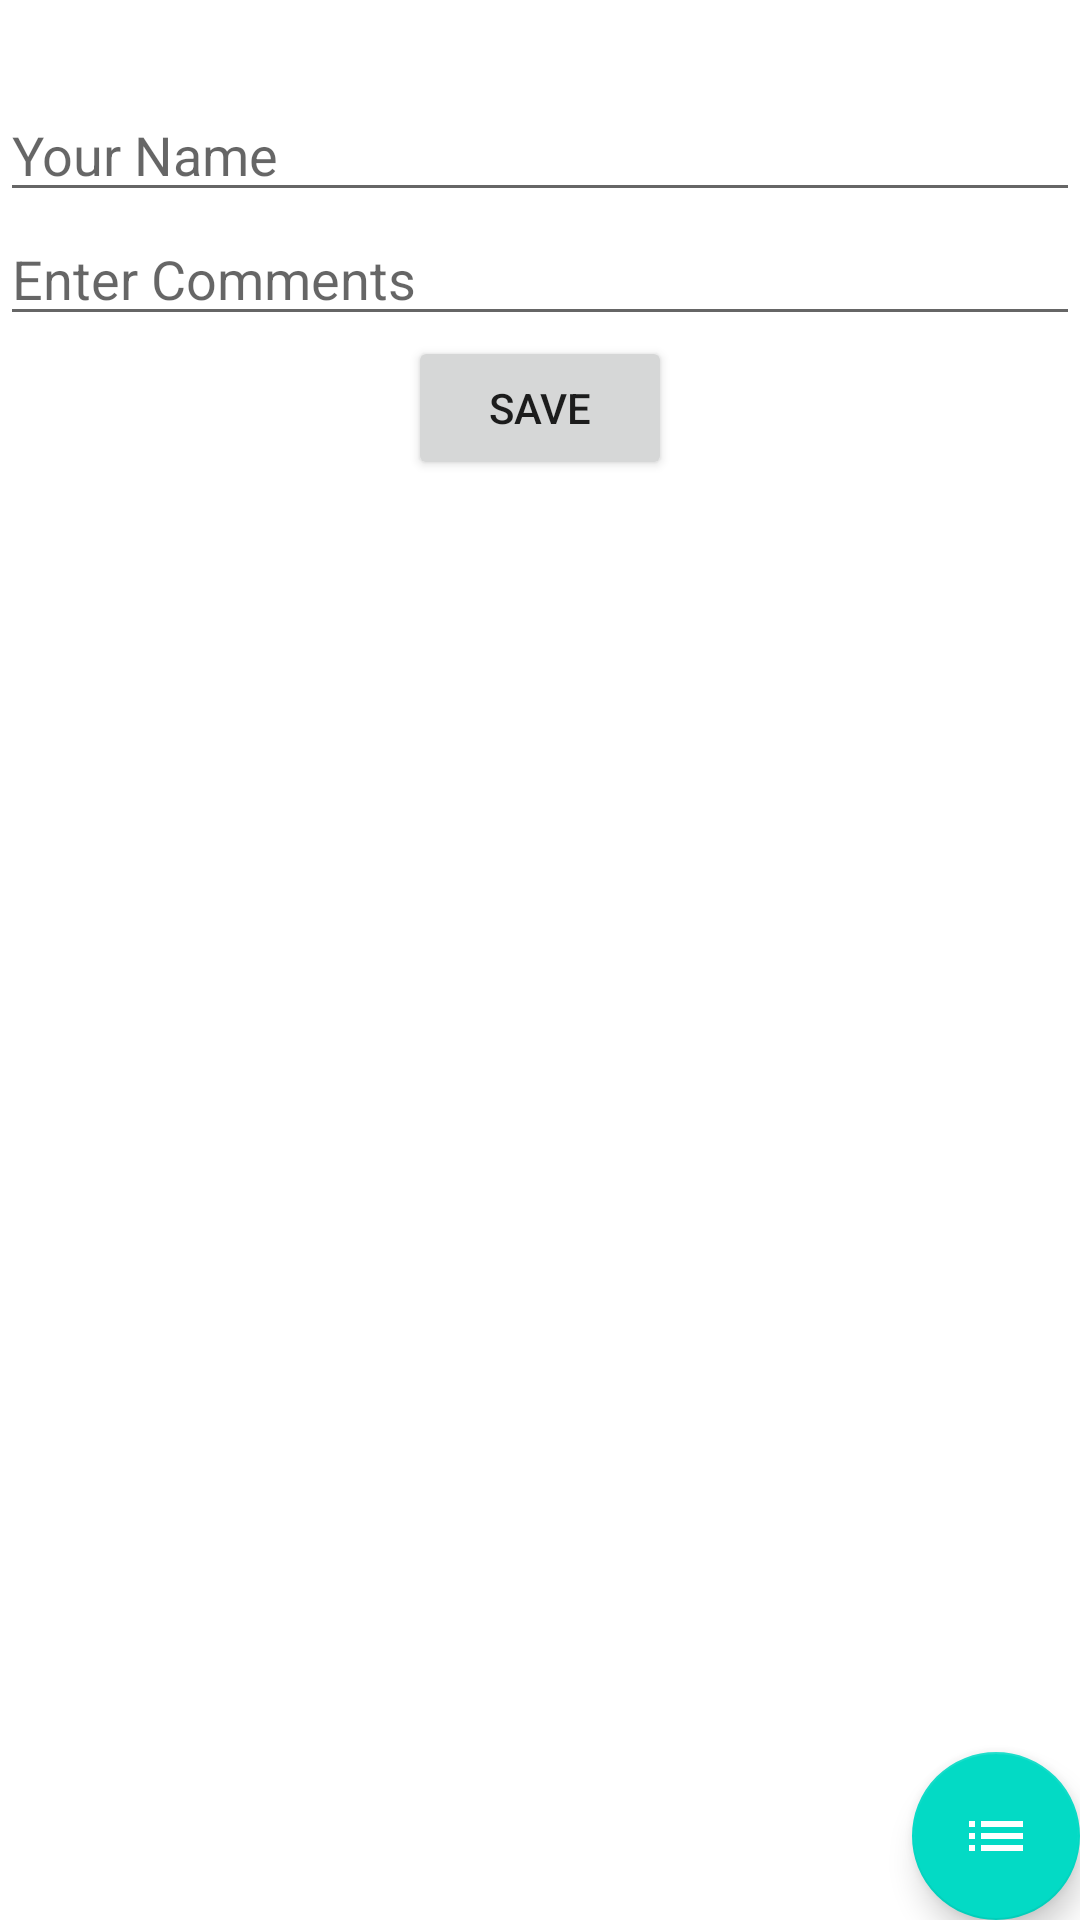

Screen size 1080 × 1920. Icon name, then its center in pixels as [x,y]:
list: [996,1836]
